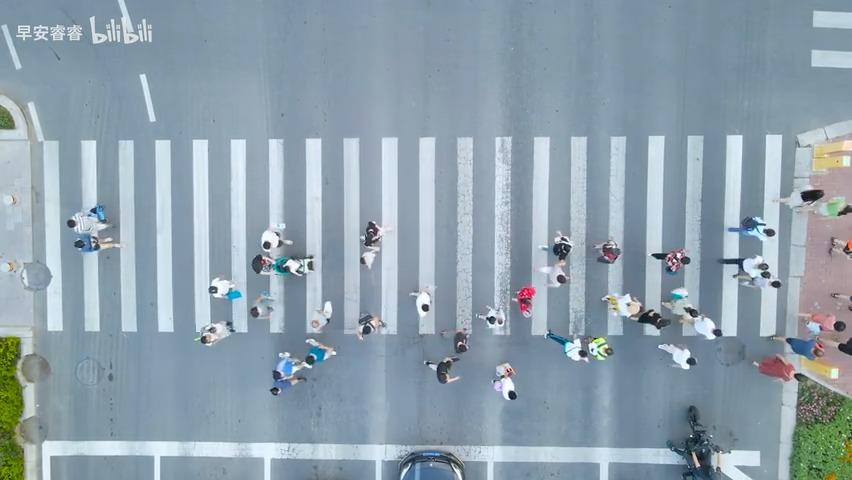Civilian: (66, 204, 114, 251), (717, 254, 781, 289), (269, 351, 307, 395), (544, 328, 589, 363), (359, 220, 391, 269), (251, 253, 314, 277), (678, 306, 722, 340), (769, 334, 824, 360), (297, 337, 337, 369), (752, 354, 795, 382), (599, 290, 642, 318), (727, 215, 775, 240), (633, 305, 670, 336), (772, 188, 824, 210), (657, 342, 697, 370), (817, 191, 852, 222), (193, 320, 234, 346), (650, 248, 690, 274), (423, 355, 460, 383), (804, 311, 845, 335), (491, 363, 517, 400), (408, 284, 437, 317), (355, 311, 386, 340), (208, 274, 242, 300), (534, 262, 568, 286), (592, 236, 621, 264), (552, 229, 573, 266), (583, 335, 614, 360), (511, 286, 535, 318), (249, 290, 275, 319), (260, 229, 293, 251), (475, 304, 505, 328), (309, 300, 332, 331), (828, 236, 851, 260), (453, 327, 470, 353), (830, 291, 851, 311)
